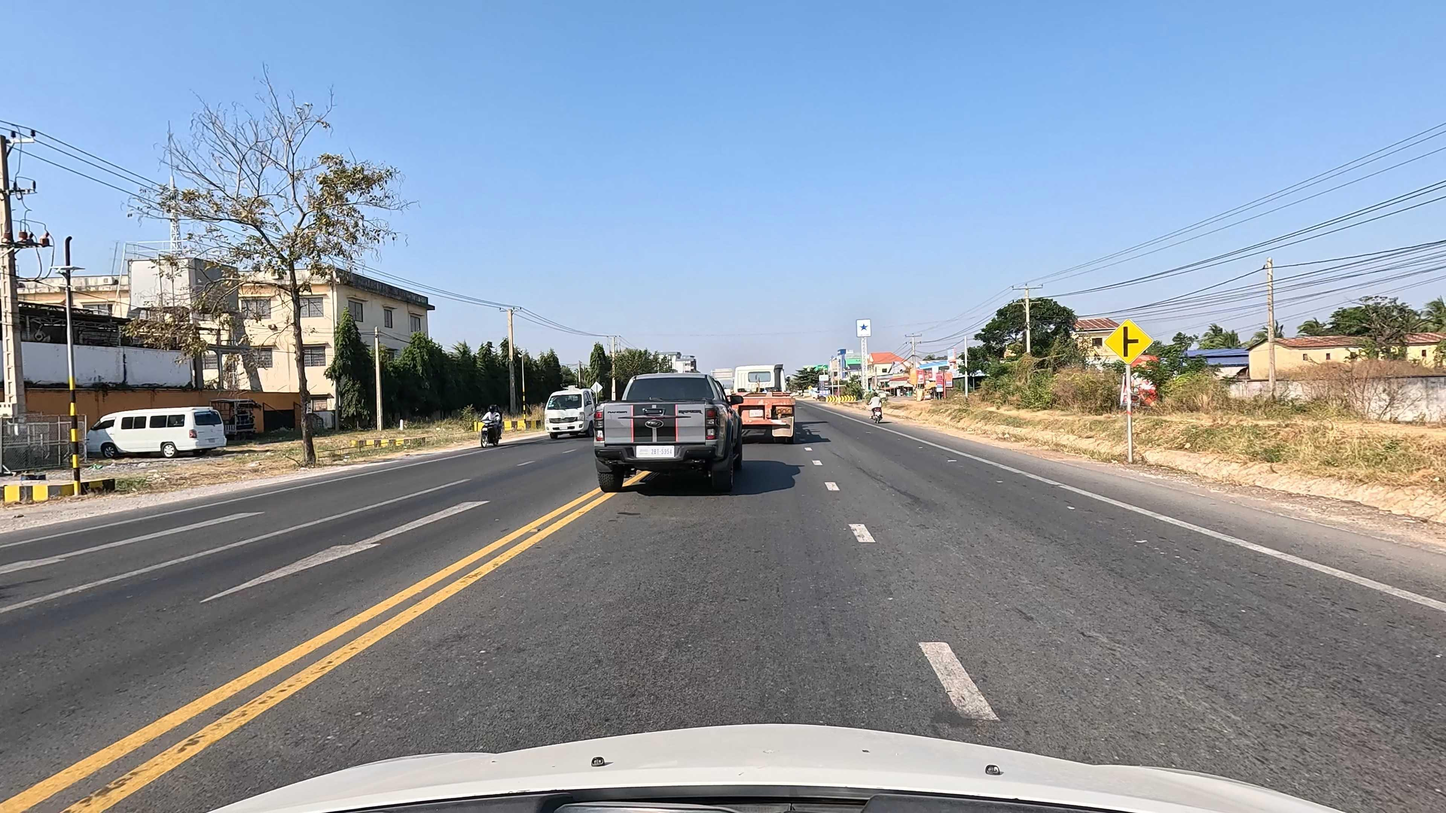side_road_junction_right: (1100, 318, 1155, 366)
